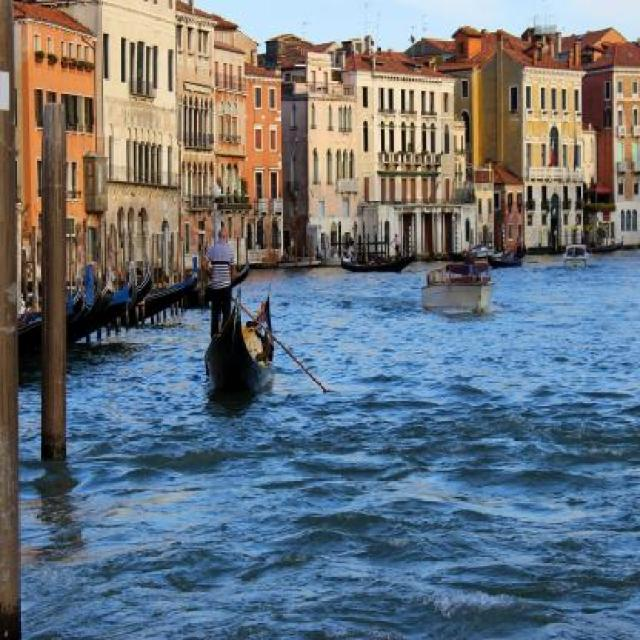ship: (204, 270, 273, 398), (418, 262, 494, 312), (338, 251, 418, 272), (484, 245, 527, 268), (580, 234, 623, 252), (562, 242, 589, 269), (470, 240, 495, 257)
